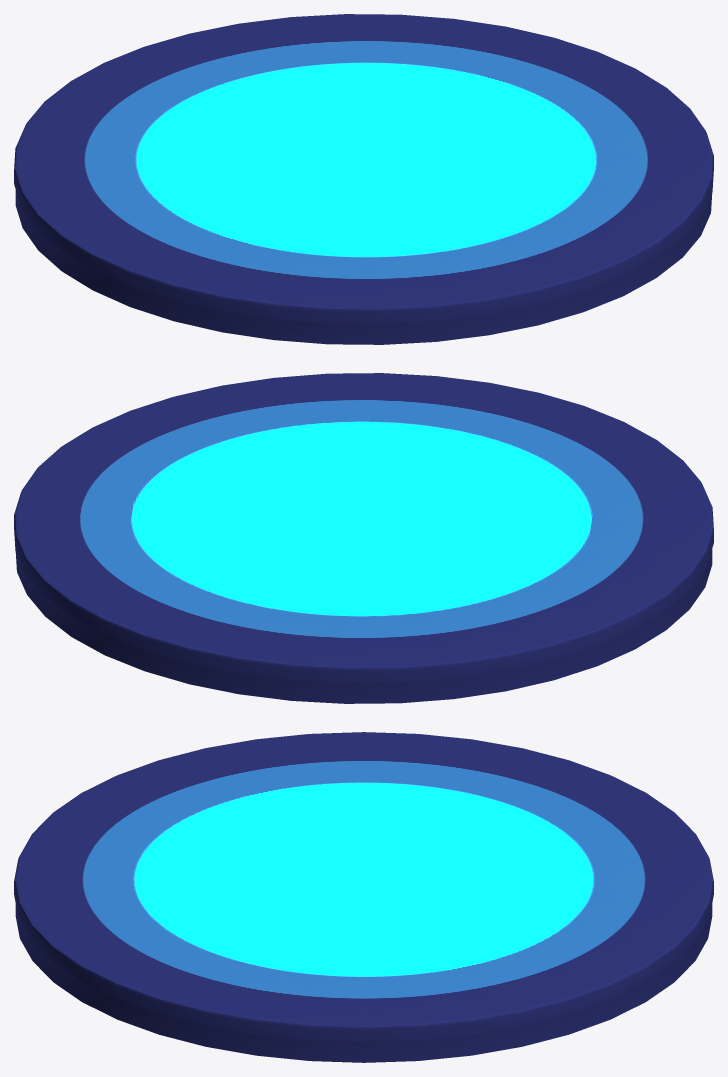
Rendered from podium.glb.
3 renders of one model, top to bottom at view 1: azimuth 30°, elevation 25°; view 2: azimuth 150°, elevation 25°; view 3: azimuth 270°, elevation 25°, orthographic.
Visible parts, largest first — view 1: Podium_Mesh; view 2: Podium_Mesh; view 3: Podium_Mesh.
Boxes of the visible parts, x1,y1,x2,y2 form: Podium_Mesh: (14, 14, 713, 344); Podium_Mesh: (14, 373, 713, 703); Podium_Mesh: (14, 732, 713, 1062).
Bounding box in the file's own units: 0.0249 × 0.00145 × 0.0249.
Materials: 1 (1 with a texture image).
